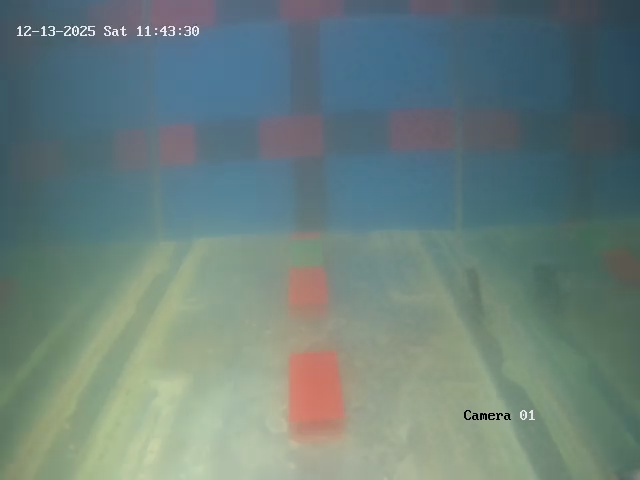fish: (458, 266, 494, 317)
